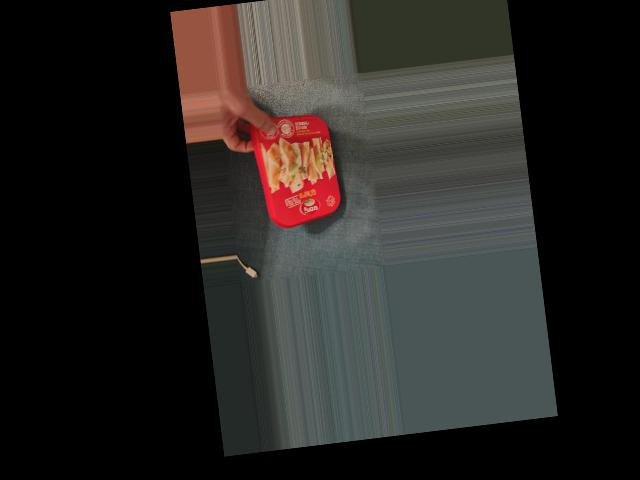cheese: (245, 108, 344, 228)
